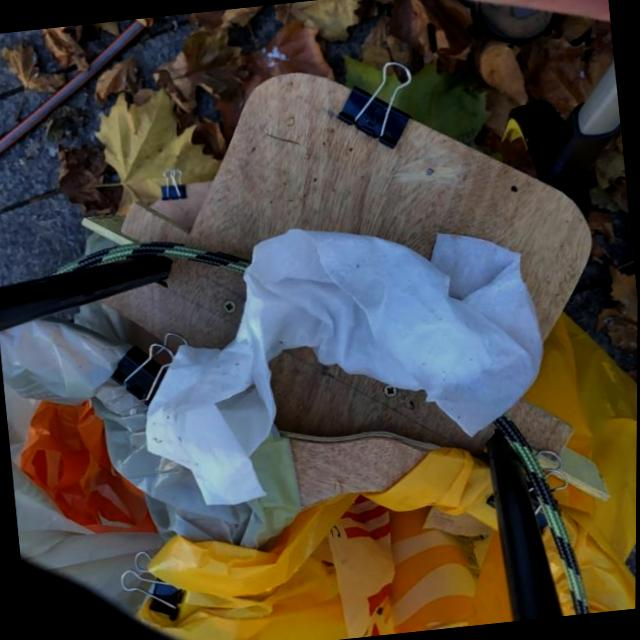Paper: (123, 200, 559, 512)
